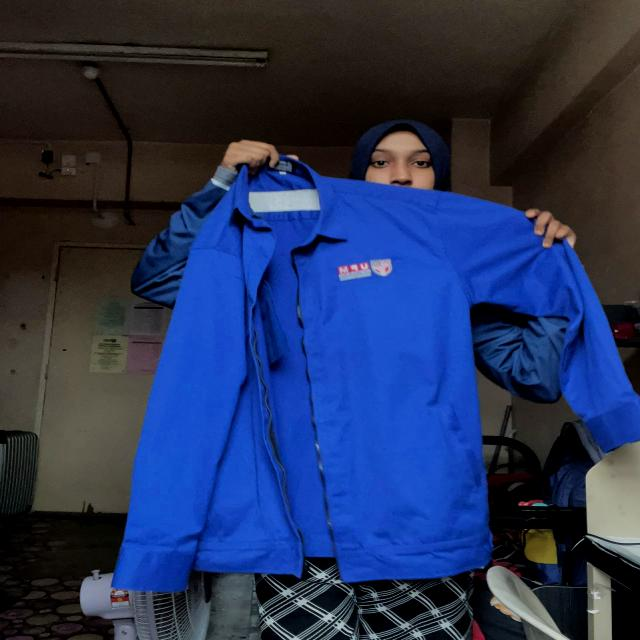person_without_labcoat: (114, 123, 639, 640)
